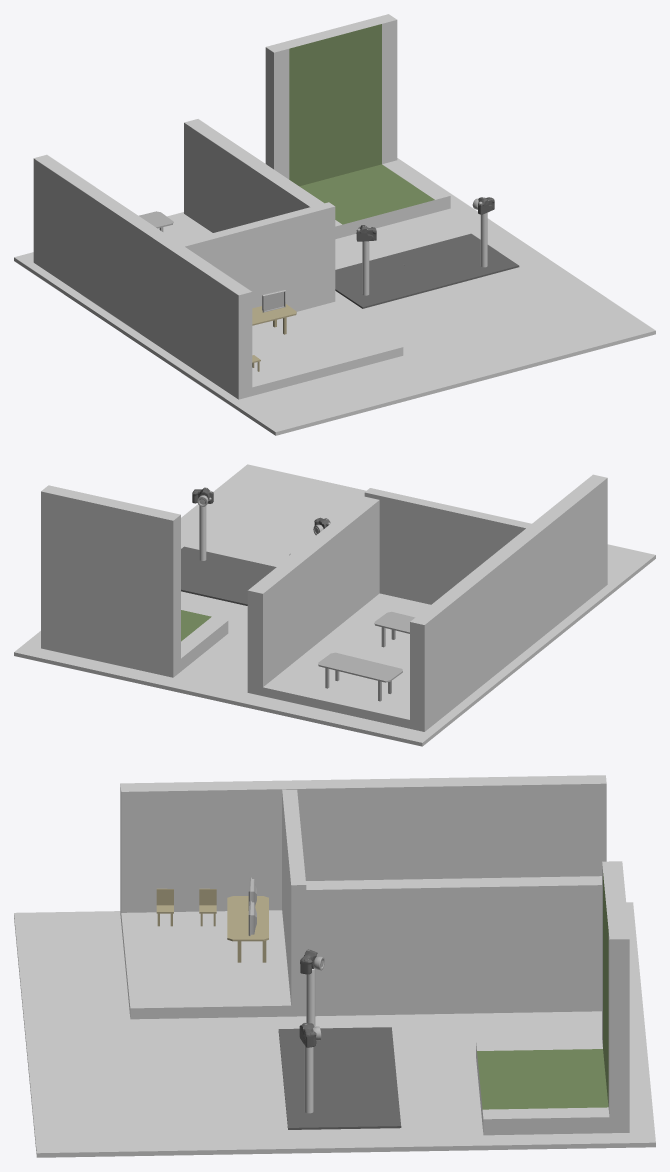
Rendered from Mulimedia Studios.glb.
The picture shows the model from 3 angles, top to bottom: view 1: azimuth 30°, elevation 25°; view 2: azimuth 150°, elevation 25°; view 3: azimuth 270°, elevation 25°; orthographic projection. The views are drawn at different scales.
Parts seen in each view (by area): view 1: pCube274; view 2: pCube274; view 3: pCube274.
Part boxes in pixels (x1=…): pCube274: x1=14, y1=14, x2=655, y2=435; pCube274: x1=14, y1=464, x2=655, y2=746; pCube274: x1=14, y1=775, x2=655, y2=1157.
Bounding box in the file's own units: 91.01 × 34.15 × 98.44.
